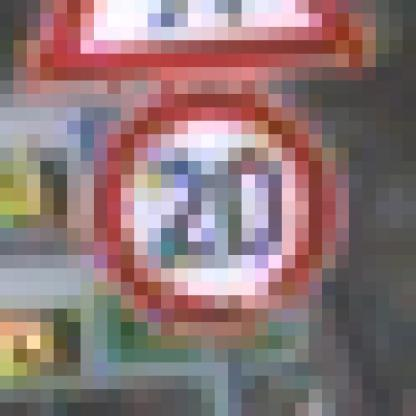Speed Limit -20-: (60, 8, 382, 374)
